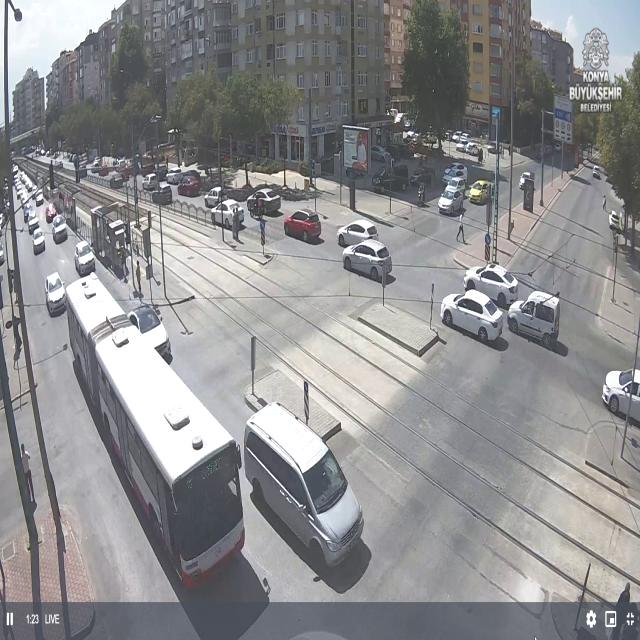Bus: (65, 270, 246, 591)
Car: (243, 401, 364, 568), (440, 290, 504, 342), (507, 290, 560, 345), (125, 301, 171, 358), (464, 263, 519, 308), (601, 368, 640, 422), (343, 239, 392, 280), (284, 209, 322, 242), (337, 220, 378, 247), (210, 199, 245, 229), (44, 272, 66, 314), (247, 188, 280, 214), (74, 240, 95, 273), (438, 189, 464, 214), (468, 180, 493, 204), (409, 165, 436, 187), (177, 175, 202, 197), (205, 187, 227, 208), (441, 168, 464, 188), (51, 215, 68, 242), (151, 185, 173, 205), (444, 162, 468, 179), (444, 177, 465, 196), (370, 145, 392, 163), (346, 160, 368, 178), (32, 229, 46, 254), (609, 210, 623, 232), (143, 173, 160, 191), (165, 168, 182, 185), (27, 212, 40, 234), (519, 172, 534, 190), (46, 202, 58, 222), (110, 174, 124, 188), (487, 142, 502, 154), (23, 204, 33, 222), (34, 190, 44, 206), (460, 132, 473, 144), (20, 192, 29, 208), (451, 131, 464, 142), (592, 166, 601, 178), (553, 142, 561, 152), (456, 144, 466, 152)
Cycle: (249, 200, 265, 220)
Van: (372, 165, 410, 194)
